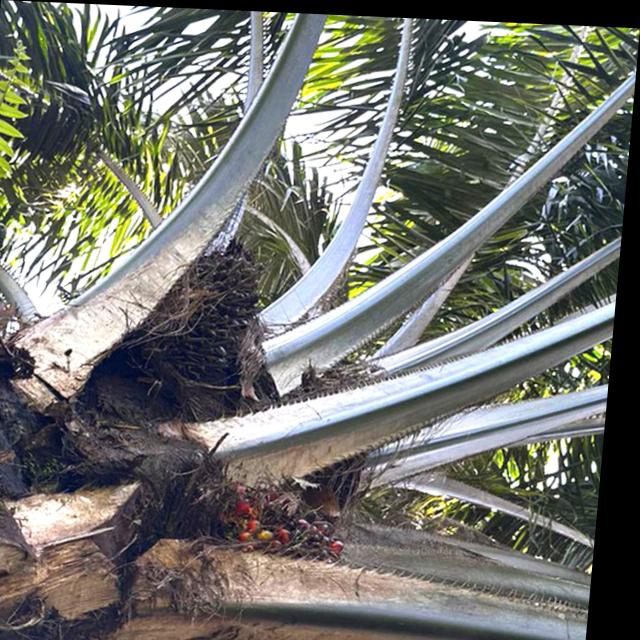almost: (120, 233, 278, 416)
